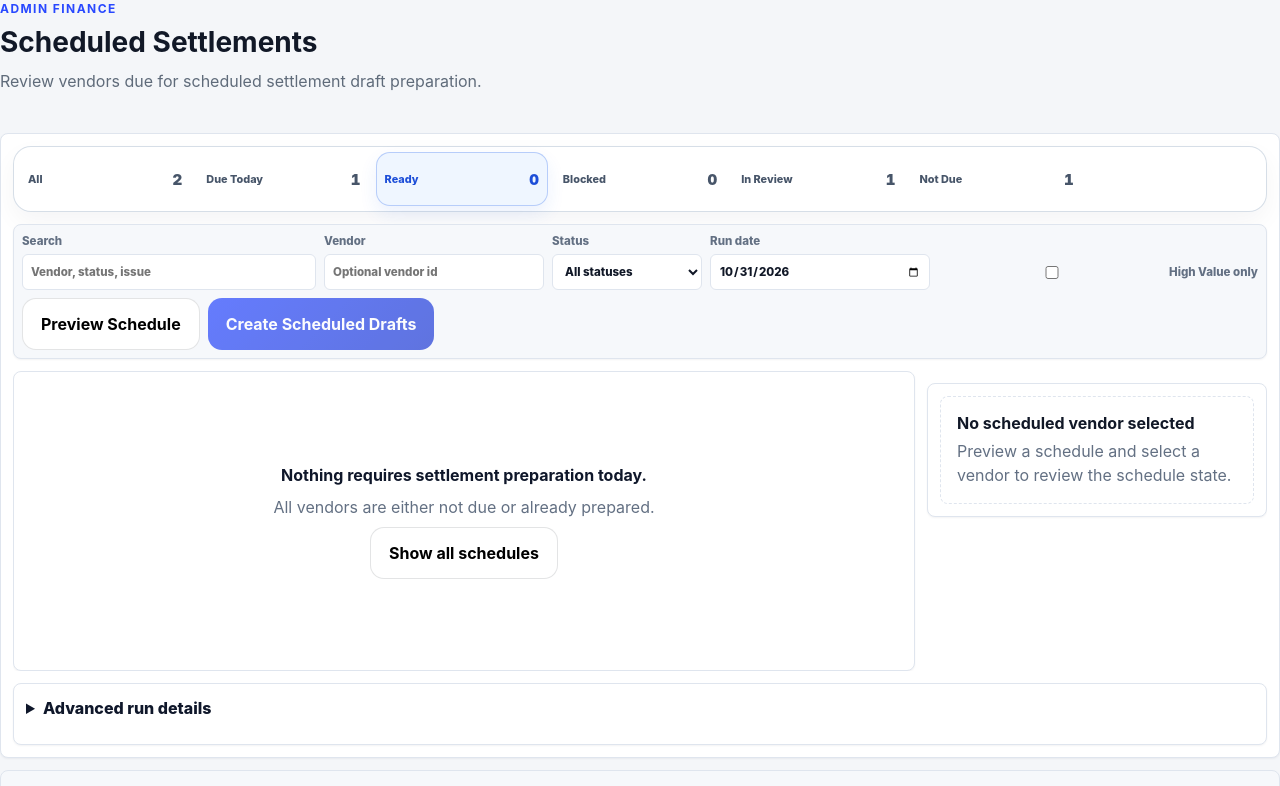
Test: AdminScheduledSettlementsPage › shows an operational empty state instead of defaulting to not due vendors
Expected: the text "Nothing requires settlement preparation today." is shown, [281,463,647,487]
Expected: the text "All vendors are either not due or already prepared." is shown, [273,495,655,519]
Click the button "Show all schedules": point(464, 553) [370,527,558,579]
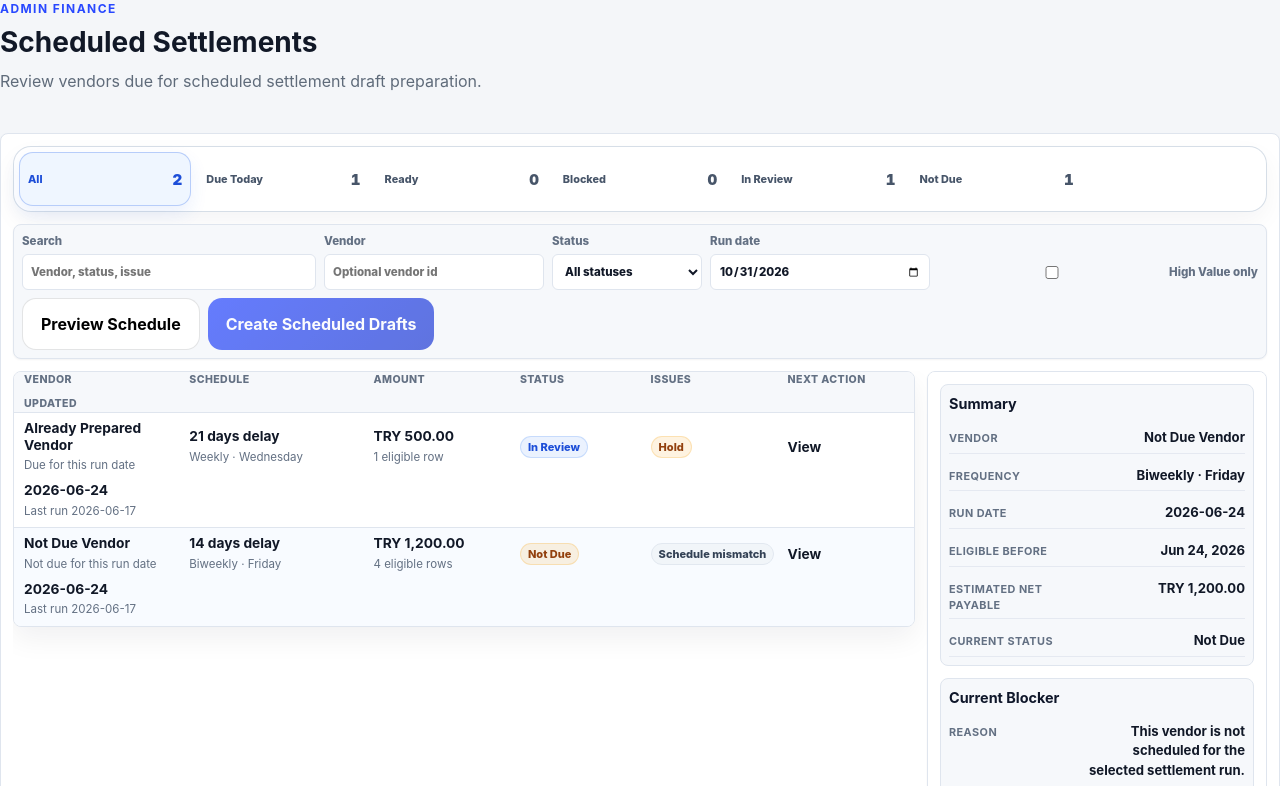
Expected: the text "Already Prepared Vendor" is shown, [24,420,141,452]
Expected: the text "Not Due Vendor" below "Updated" is shown, [24,535,130,551]
